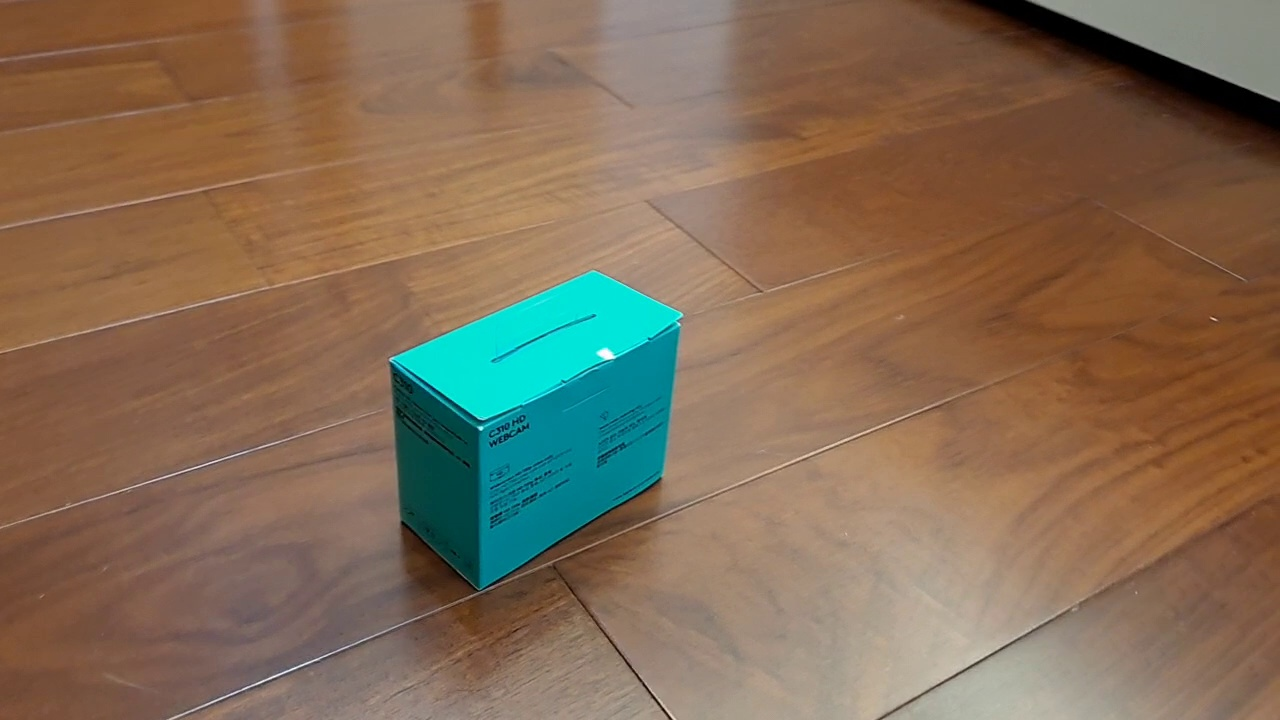webcam: (386, 266, 685, 593)
